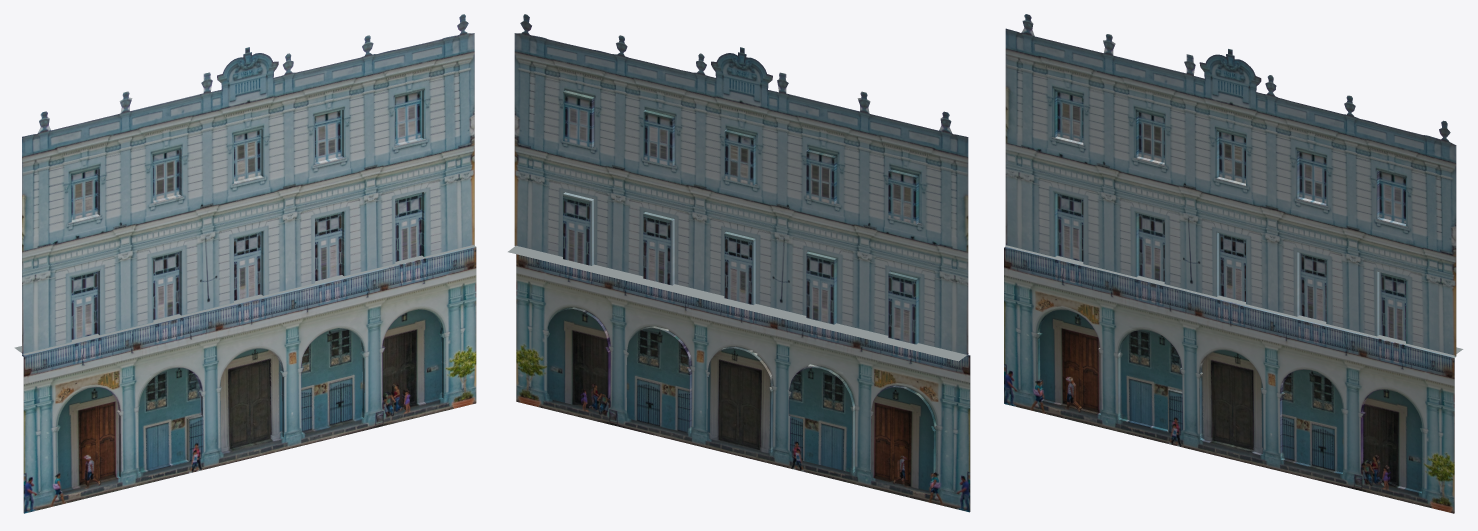
The model's file is Housemain1.fbx.
The picture shows the model from 3 angles, left to right: view 1: azimuth 30°, elevation 25°; view 2: azimuth 150°, elevation 25°; view 3: azimuth 330°, elevation 25°; orthographic projection.
Visible parts, largest first — view 1: building1, Plane; view 2: building1, Plane; view 3: building1, Plane.
Part boxes in pixels (x1=…): building1: x1=22, y1=14, x2=476, y2=513; Plane: x1=14, y1=245, x2=474, y2=355; building1: x1=514, y1=14, x2=970, y2=512; Plane: x1=508, y1=245, x2=968, y2=361; building1: x1=1004, y1=14, x2=1456, y2=513; Plane: x1=1005, y1=245, x2=1463, y2=356.
Size of the model in its own units: 2755 by 2374 by 112.
